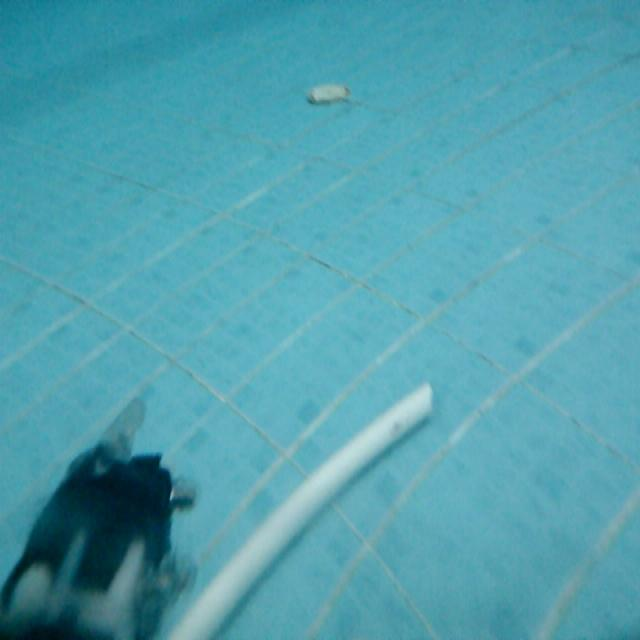Cube: (149, 376, 436, 639)
